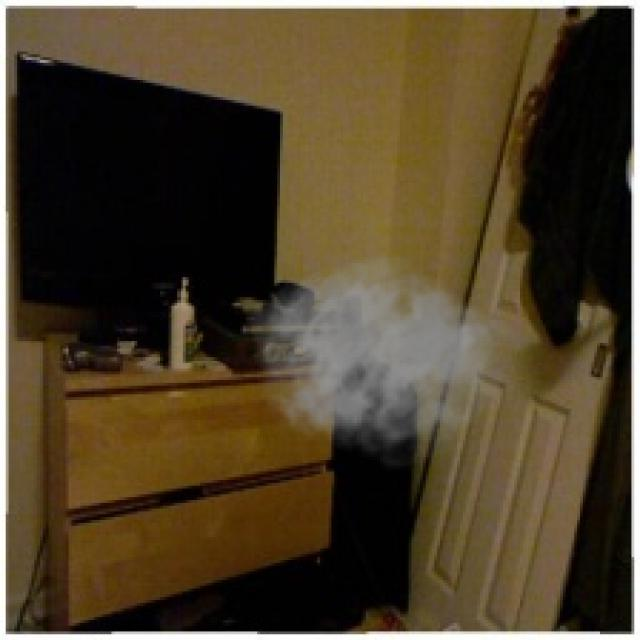smoke: (246, 254, 520, 472)
